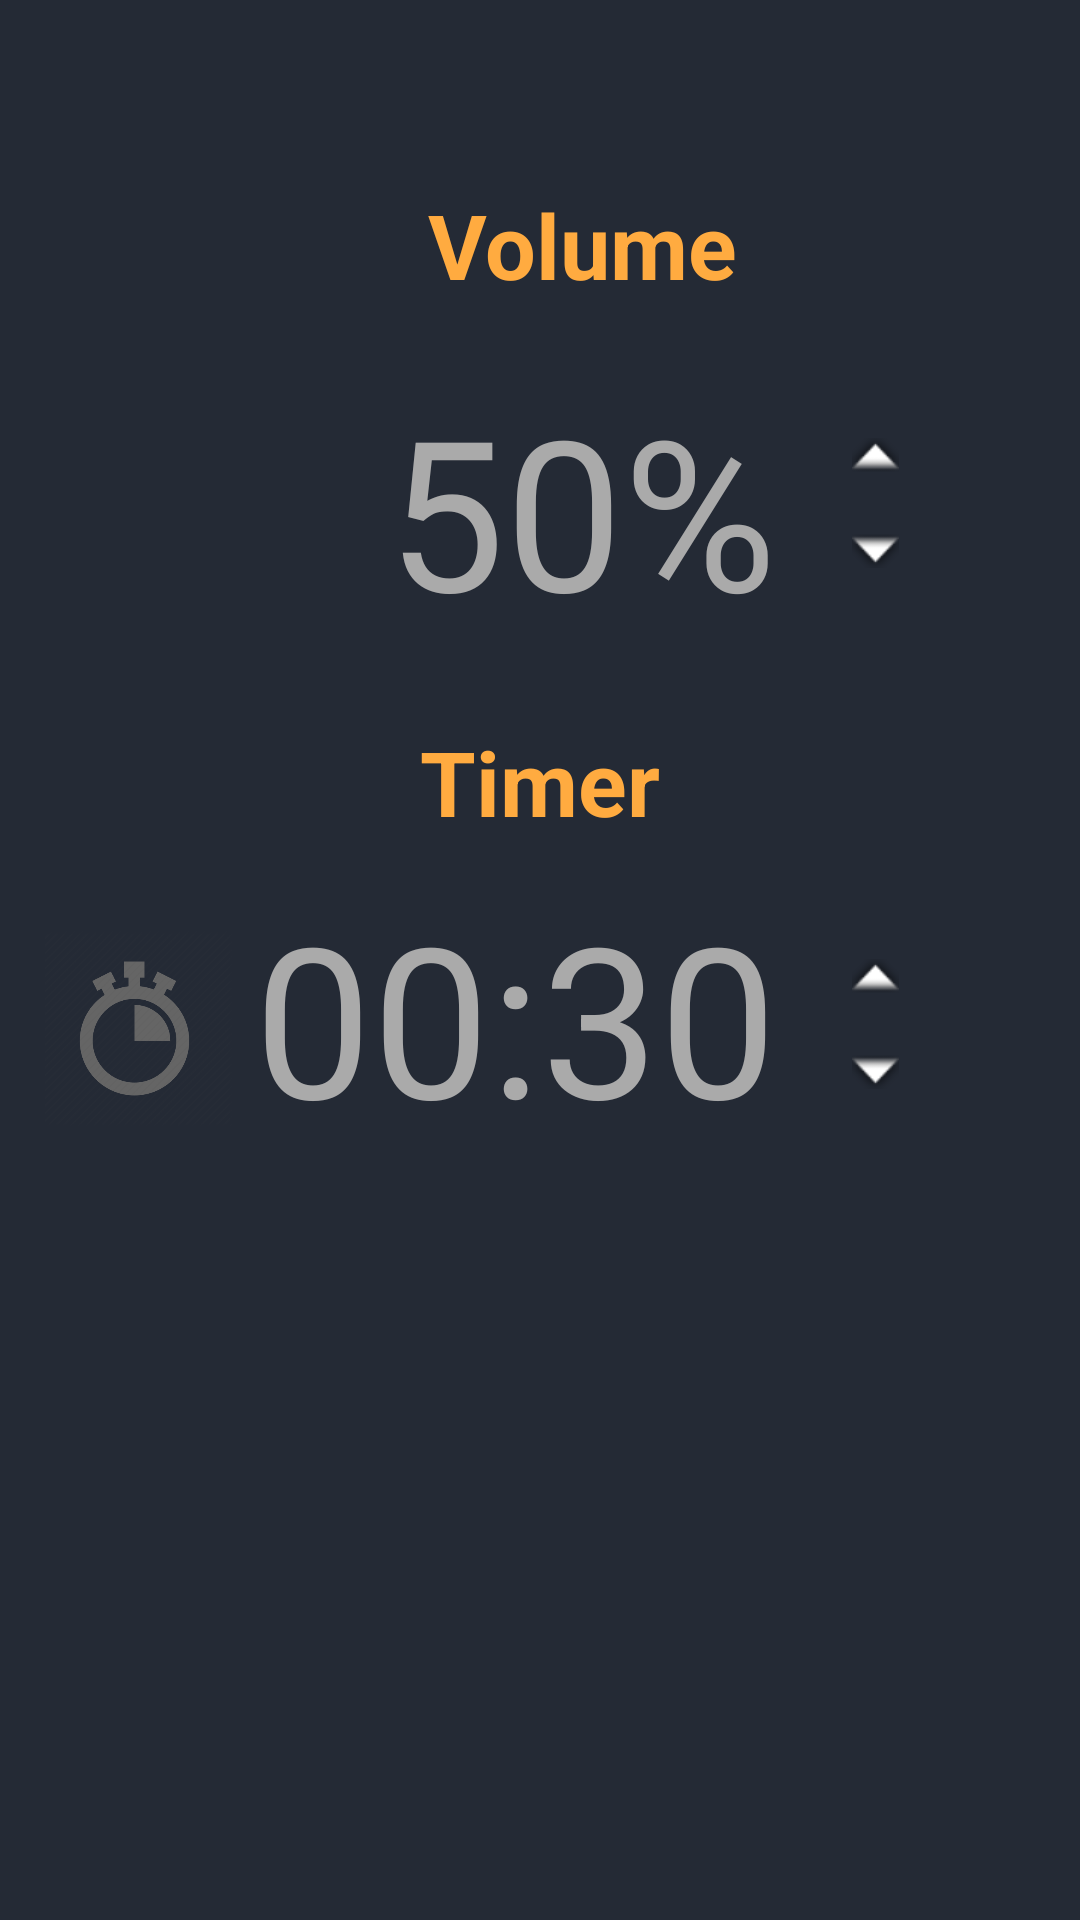

Screen size 1080px x 1920px. Icon name, then its box in pixels as (x1, y1, x2, y2):
arrow down float: (853, 537, 898, 562), (853, 1058, 898, 1083)
arrow up float: (853, 444, 898, 469), (853, 965, 898, 990)
timer: (80, 961, 189, 1096)
